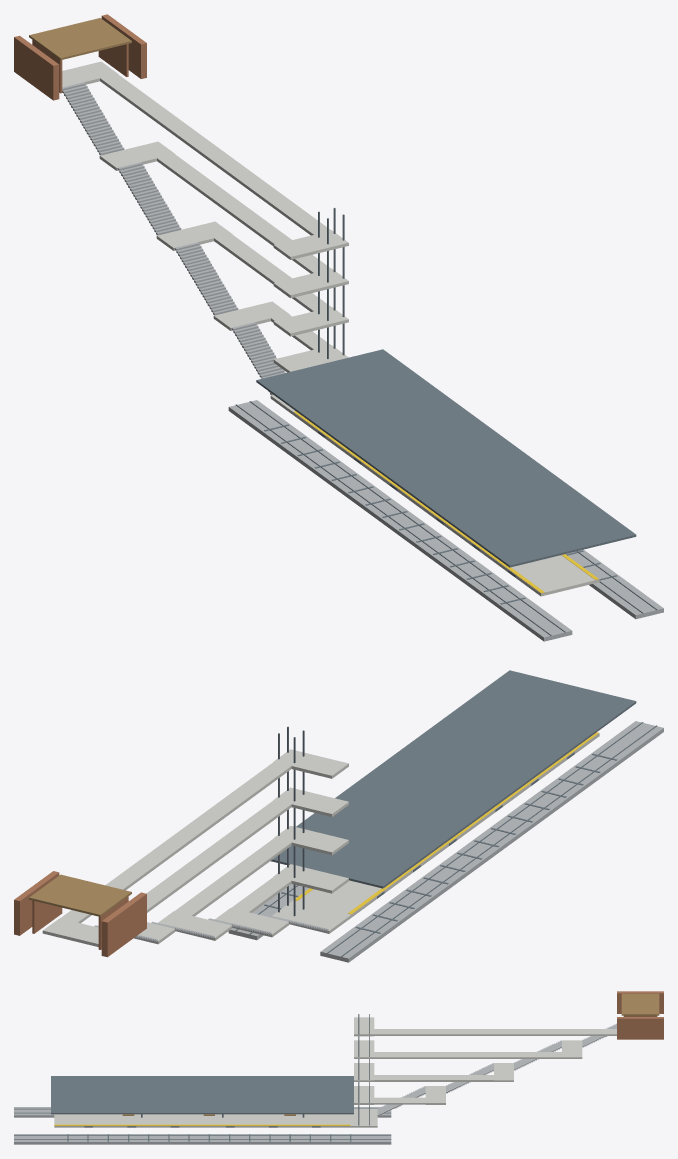
Rendered from yaletown-roundhouse.glb.
The picture shows the model from 3 angles, top to bottom: view 1: azimuth 30°, elevation 25°; view 2: azimuth 150°, elevation 25°; view 3: azimuth 270°, elevation 25°; orthographic projection. The views are drawn at different scales.
Parts seen in each view (by area): view 1: batch-removable-roof-steel, batch-trackbed-concrete, batch-stair-tread-concrete, floor-yaletown-canada-lift-side, batch-static-brick, floor-yaletown-canada-lift-corridor-3, floor-yaletown-canada, batch-removable-roof-wood, batch-rail-steel, floor-yaletown-canada-lift-corridor-2, floor-yaletown-canada-landing-1, floor-yaletown-canada-landing-3 (+6 smaller); view 2: batch-removable-roof-steel, batch-trackbed-concrete, floor-yaletown-canada-lift-side, batch-static-brick, floor-yaletown-canada-lift-corridor-3, batch-removable-roof-wood, floor-yaletown-canada-lift-corridor-2, floor-yaletown-canada, batch-rail-steel, floor-yaletown-canada-lift-corridor-1, batch-lift-shaft-steel, floor-yaletown-canada-lift-mid-2 (+11 smaller); view 3: batch-removable-roof-steel, batch-trackbed-concrete, floor-yaletown-canada, floor-yaletown-canada-lift-side, floor-yaletown-canada-lift-corridor-3, batch-static-brick, batch-rail-steel, batch-stair-tread-concrete, floor-yaletown-canada-lift-corridor-2, batch-removable-roof-wood, batch-static-yellow, floor-yaletown-canada-lift-corridor-1 (+9 smaller).
Part boxes in pixels (x1=…): batch-removable-roof-steel: x1=256, y1=349, x2=636, y2=567; batch-trackbed-concrete: x1=228, y1=400, x2=663, y2=641; batch-stair-tread-concrete: x1=62, y1=82, x2=285, y2=395; floor-yaletown-canada-lift-side: x1=85, y1=61, x2=348, y2=247; batch-static-brick: x1=14, y1=14, x2=146, y2=100; floor-yaletown-canada-lift-corridor-3: x1=141, y1=142, x2=348, y2=285; floor-yaletown-canada: x1=293, y1=412, x2=599, y2=596; batch-removable-roof-wood: x1=29, y1=18, x2=131, y2=60; batch-rail-steel: x1=235, y1=401, x2=657, y2=635; floor-yaletown-canada-lift-corridor-2: x1=205, y1=223, x2=348, y2=326; floor-yaletown-canada-landing-1: x1=213, y1=301, x2=288, y2=330; floor-yaletown-canada-landing-3: x1=99, y1=141, x2=174, y2=170; batch-removable-roof-steel: x1=270, y1=670, x2=636, y2=888; batch-trackbed-concrete: x1=228, y1=721, x2=663, y2=962; floor-yaletown-canada-lift-side: x1=43, y1=749, x2=307, y2=937; batch-static-brick: x1=14, y1=871, x2=146, y2=957; floor-yaletown-canada-lift-corridor-3: x1=146, y1=787, x2=307, y2=912; batch-removable-roof-wood: x1=29, y1=874, x2=131, y2=916; floor-yaletown-canada-lift-corridor-2: x1=160, y1=827, x2=308, y2=926; floor-yaletown-canada: x1=297, y1=733, x2=599, y2=917; batch-rail-steel: x1=235, y1=722, x2=656, y2=956; floor-yaletown-canada-lift-corridor-1: x1=220, y1=864, x2=307, y2=923; batch-lift-shaft-steel: x1=278, y1=726, x2=304, y2=916; floor-yaletown-canada-lift-mid-2: x1=274, y1=826, x2=348, y2=855; batch-removable-roof-steel: x1=51, y1=1076, x2=353, y2=1114; batch-trackbed-concrete: x1=14, y1=1107, x2=391, y2=1144; floor-yaletown-canada: x1=54, y1=1114, x2=350, y2=1127; floor-yaletown-canada-lift-side: x1=354, y1=1029, x2=616, y2=1035; floor-yaletown-canada-lift-corridor-3: x1=354, y1=1052, x2=582, y2=1058; batch-static-brick: x1=617, y1=991, x2=663, y2=1039; batch-rail-steel: x1=14, y1=1108, x2=391, y2=1141; batch-stair-tread-concrete: x1=377, y1=1023, x2=616, y2=1115; floor-yaletown-canada-lift-corridor-2: x1=354, y1=1075, x2=513, y2=1081; batch-removable-roof-wood: x1=621, y1=993, x2=659, y2=1015; batch-static-yellow: x1=54, y1=1124, x2=350, y2=1125; floor-yaletown-canada-lift-corridor-1: x1=354, y1=1097, x2=445, y2=1104.
Bounding box in the file's own units: 13 × 20.17 × 96.5.
